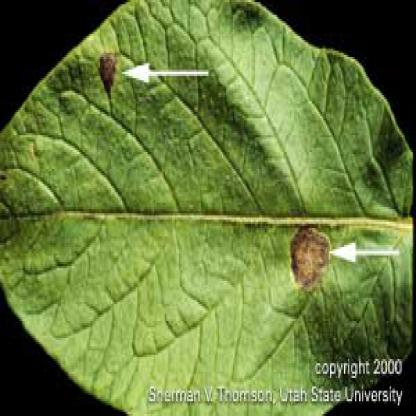Potato leaf early blight: (7, 2, 415, 414)
